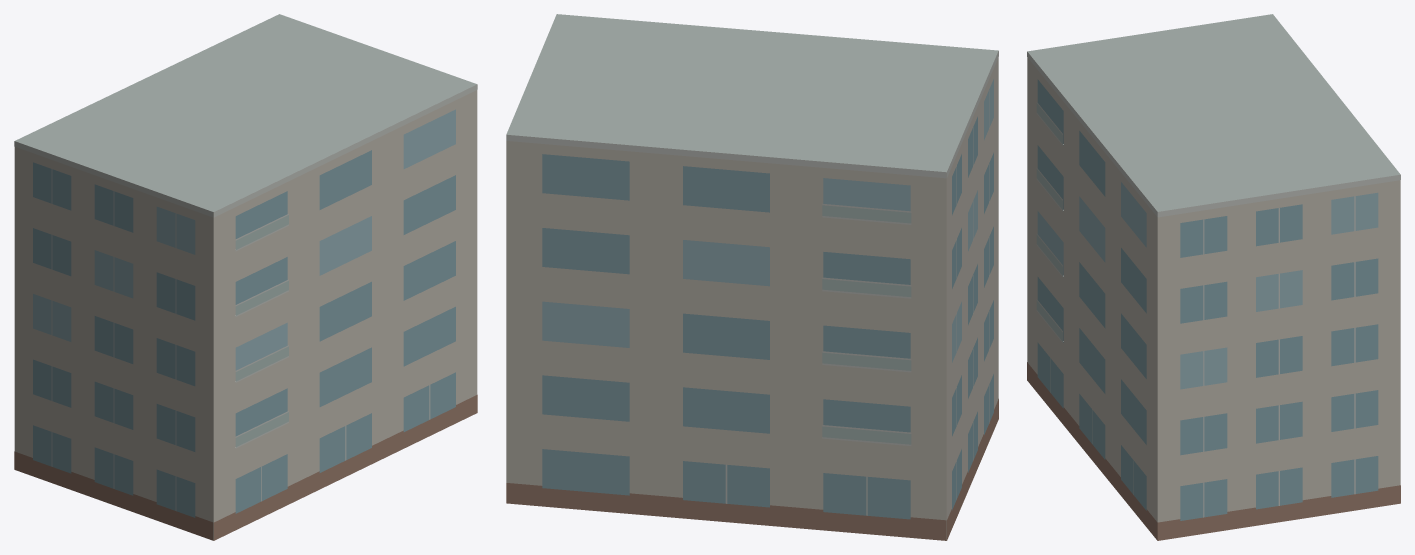
File: survey-upis-32853136.glb
3 renders of one model, left to right at view 1: azimuth 30°, elevation 25°; view 2: azimuth 150°, elevation 25°; view 3: azimuth 270°, elevation 25°, orthographic. The views are drawn at different scales.
Visible parts, largest first — view 1: survey-upis-32853136.tmp; view 2: survey-upis-32853136.tmp; view 3: survey-upis-32853136.tmp.
Part boxes in pixels (box(x1,y1,x2,y2)): survey-upis-32853136.tmp: box(14, 14, 477, 540); survey-upis-32853136.tmp: box(506, 14, 998, 540); survey-upis-32853136.tmp: box(1027, 14, 1400, 540).
Bounding box in the file's own units: 18.84 × 14.59 × 15.03.
